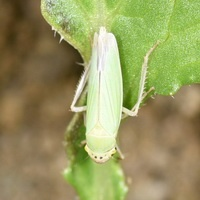insect: (71, 27, 159, 162)
